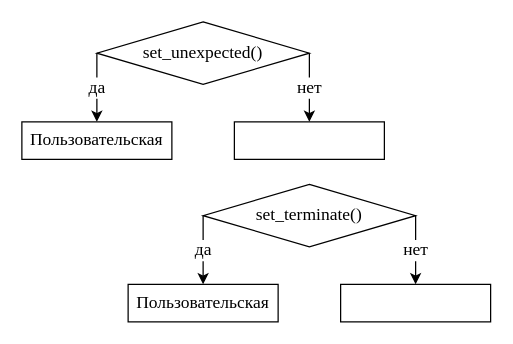
This 513x344 diagram has some shape labels left out. The box of each missing label's shape, as (x1, y1, x2, y2) in pixels:
abort(): (339, 283, 491, 322)
terminate(): (233, 121, 384, 159)
